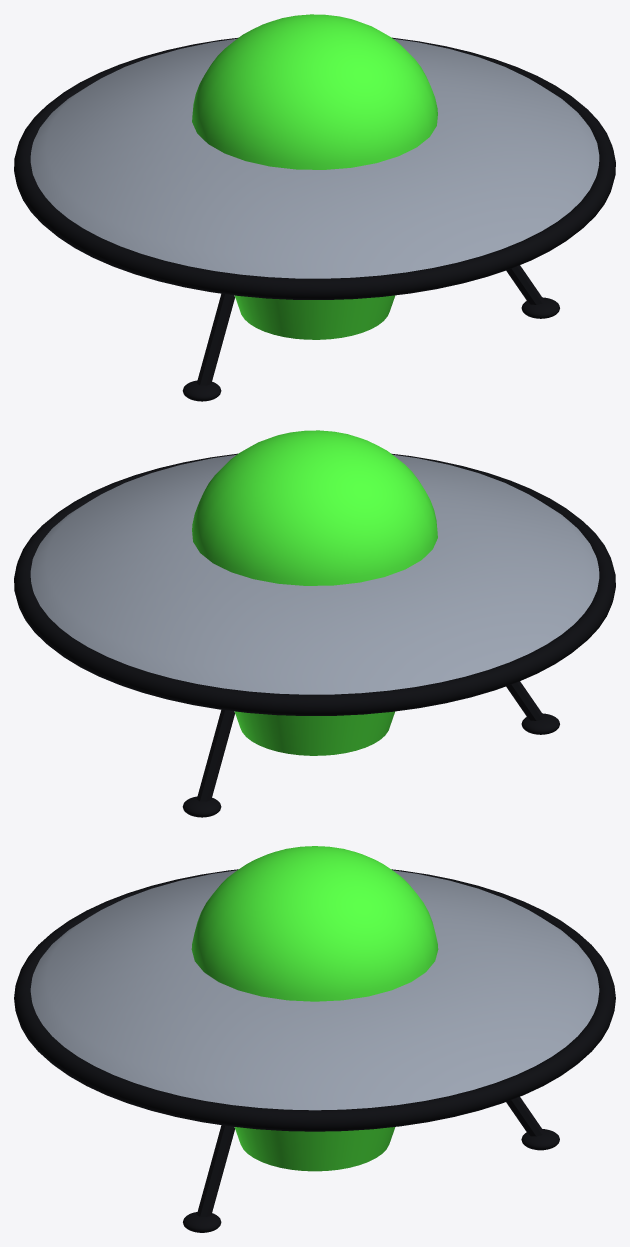
The model's file is Rocket_24_UFO.obj.
The picture shows the model from 3 angles, top to bottom: view 1: azimuth 30°, elevation 25°; view 2: azimuth 150°, elevation 25°; view 3: azimuth 270°, elevation 25°; orthographic projection.
Visible parts, largest first — view 1: R24_Saucer, R24_Dome, R24_Rim, R24_Beam, R24_Leg_2, R24_Leg_3, R24_Foot_2, R24_Foot_3; view 2: R24_Saucer, R24_Dome, R24_Rim, R24_Beam, R24_Leg, R24_Leg_2, R24_Foot, R24_Foot_2; view 3: R24_Saucer, R24_Dome, R24_Rim, R24_Beam, R24_Leg_3, R24_Leg, R24_Foot_3, R24_Foot.
Boxes of the visible parts, x1,y1,x2,y2 form: R24_Saucer: [30, 38, 599, 278]; R24_Dome: [192, 14, 437, 169]; R24_Rim: [14, 37, 615, 299]; R24_Beam: [234, 295, 395, 339]; R24_Leg_2: [196, 293, 234, 385]; R24_Leg_3: [506, 265, 544, 304]; R24_Foot_2: [182, 380, 221, 401]; R24_Foot_3: [521, 297, 559, 318]; R24_Saucer: [30, 454, 599, 694]; R24_Dome: [192, 430, 437, 585]; R24_Rim: [14, 453, 615, 715]; R24_Beam: [234, 711, 395, 755]; R24_Leg: [196, 709, 234, 801]; R24_Leg_2: [506, 681, 544, 720]; R24_Foot: [182, 796, 221, 817]; R24_Foot_2: [521, 713, 559, 734]; R24_Saucer: [30, 870, 599, 1110]; R24_Dome: [191, 846, 438, 1001]; R24_Rim: [14, 869, 615, 1131]; R24_Beam: [234, 1127, 395, 1171]; R24_Leg_3: [196, 1125, 234, 1217]; R24_Leg: [506, 1097, 544, 1136]; R24_Foot_3: [183, 1212, 221, 1232]; R24_Foot: [521, 1129, 559, 1150].
Size of the model in its own units: 5.6 by 2.95 by 5.6.
